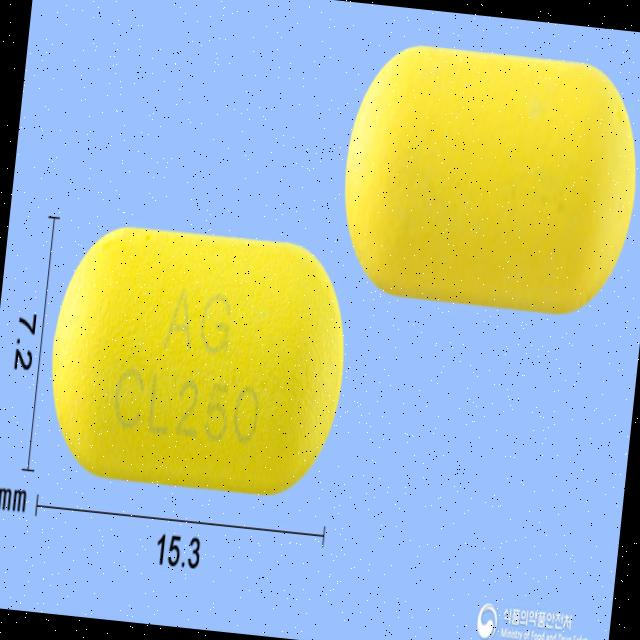Shuclari Tab: (40, 220, 358, 504), (331, 38, 640, 318)
